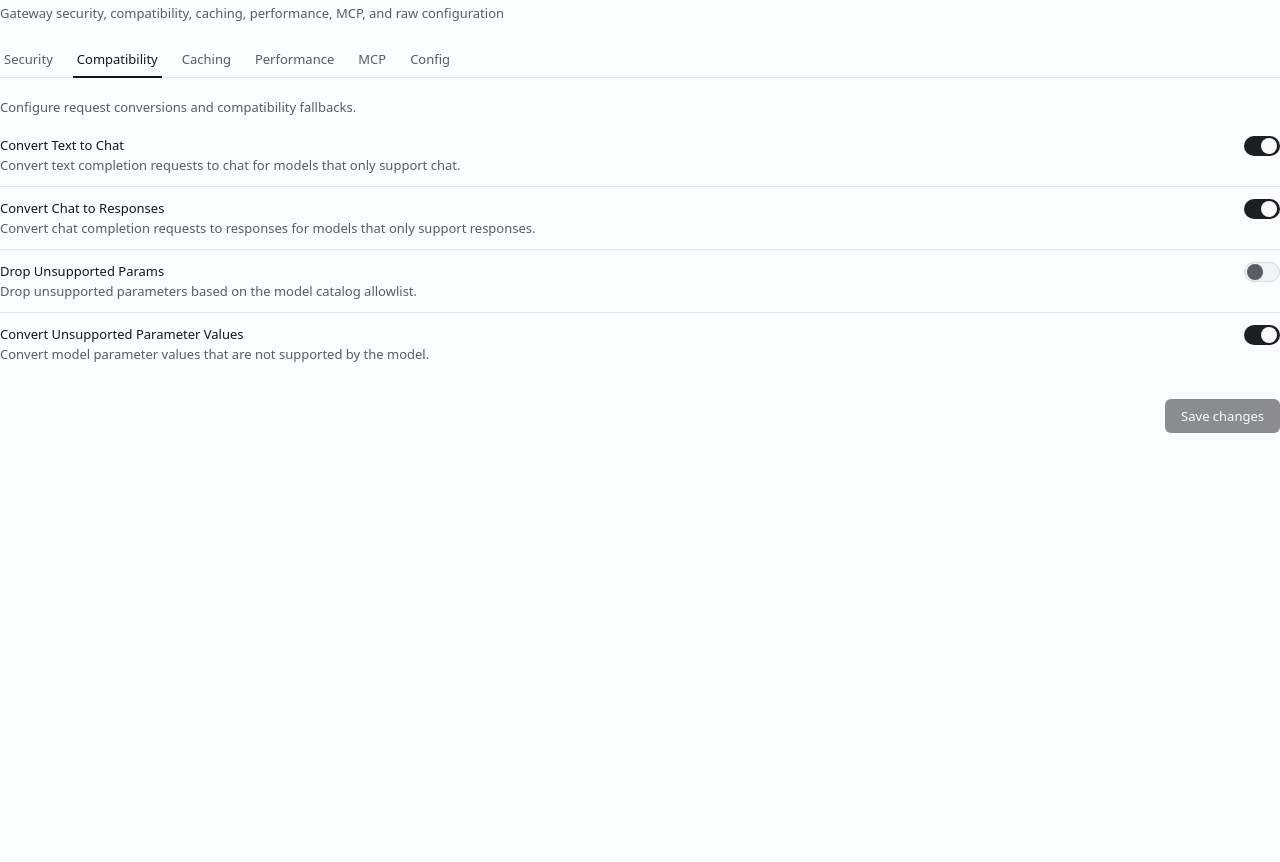
SettingsView caching (Frosty headers, not x-bf-) › renders the caching form and references x-frosty-cache-* headers only
Click the tab "Caching" at (206, 60), box [178,42,235,78]
(page scrolled)
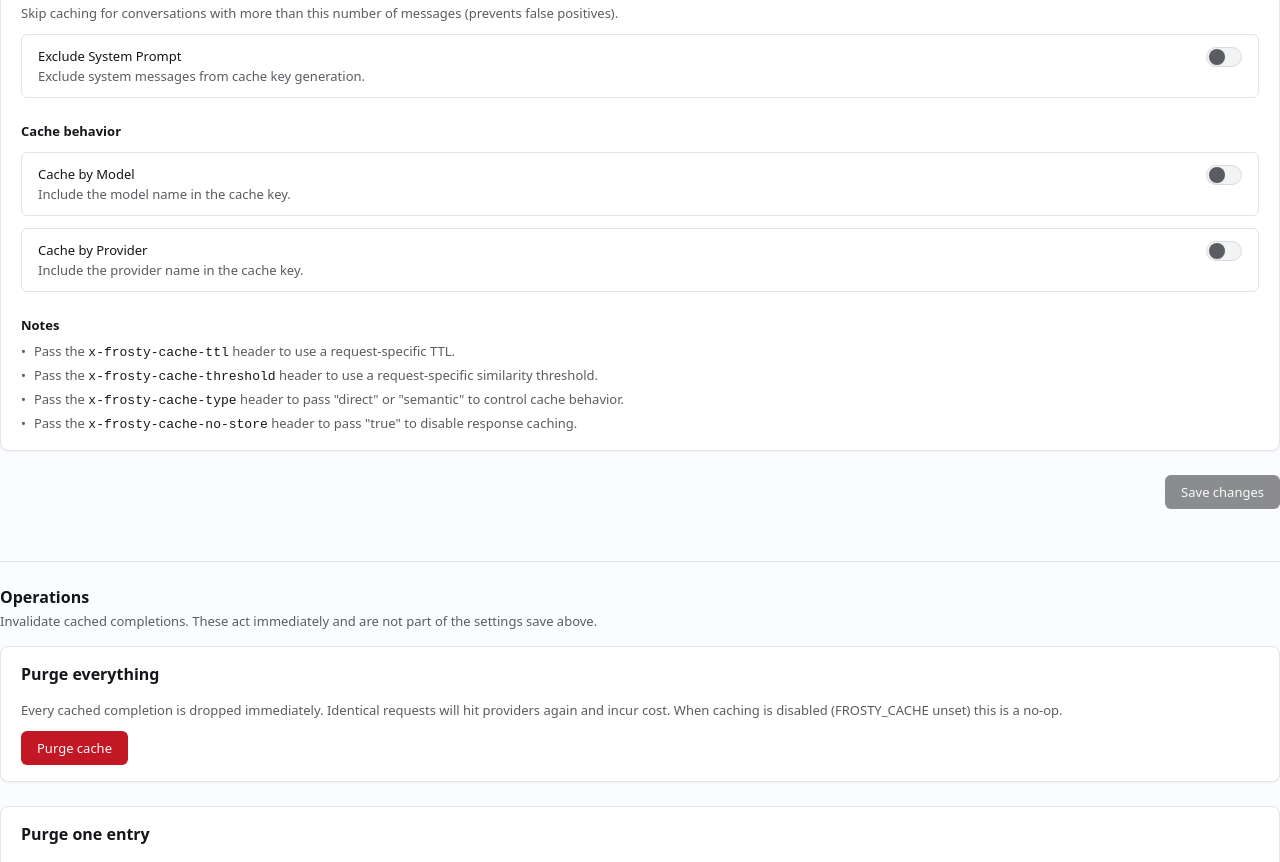
Now the text "x-frosty-cache-no-store" is shown, box [88,417,268,432]
